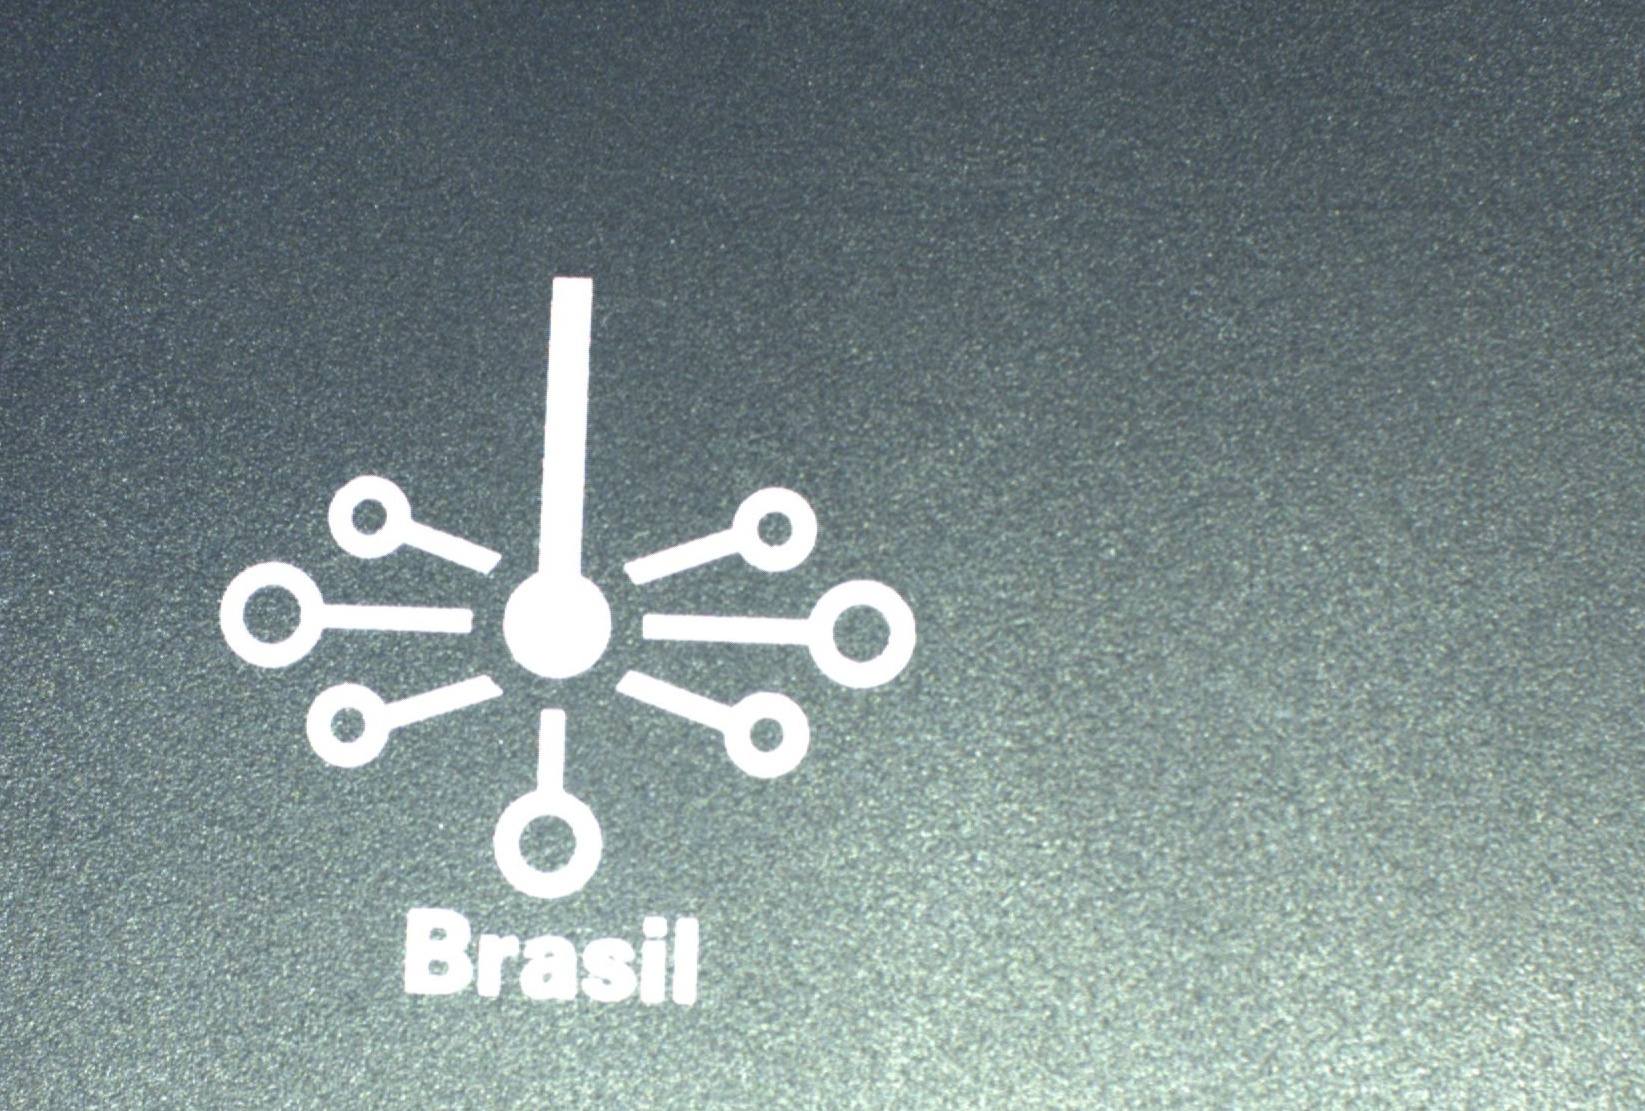BO_Brsail: (188, 263, 925, 1019)
